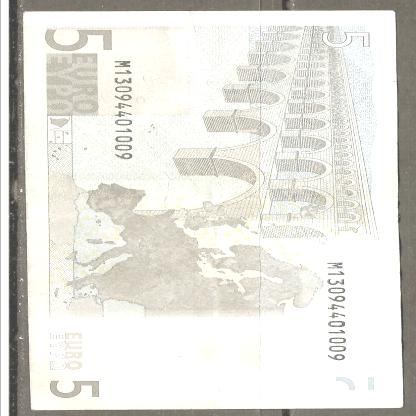euro_banknote: (13, 23, 416, 397)
